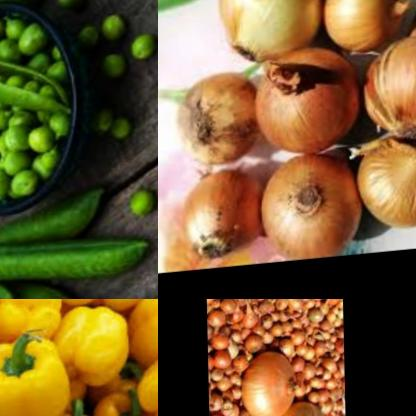bell pepper: (0, 299, 158, 416)
onion: (205, 299, 345, 416), (241, 45, 365, 174), (252, 141, 356, 265), (168, 65, 259, 178), (171, 165, 259, 271), (352, 19, 416, 159), (341, 116, 416, 234), (218, 0, 323, 73), (309, 0, 410, 62), (237, 348, 303, 416), (272, 403, 337, 416)
peas: (0, 204, 140, 299), (0, 31, 75, 208), (87, 104, 137, 162), (52, 0, 102, 31), (125, 31, 157, 71), (93, 11, 129, 45), (97, 56, 134, 87), (74, 26, 103, 65), (131, 190, 156, 225)
